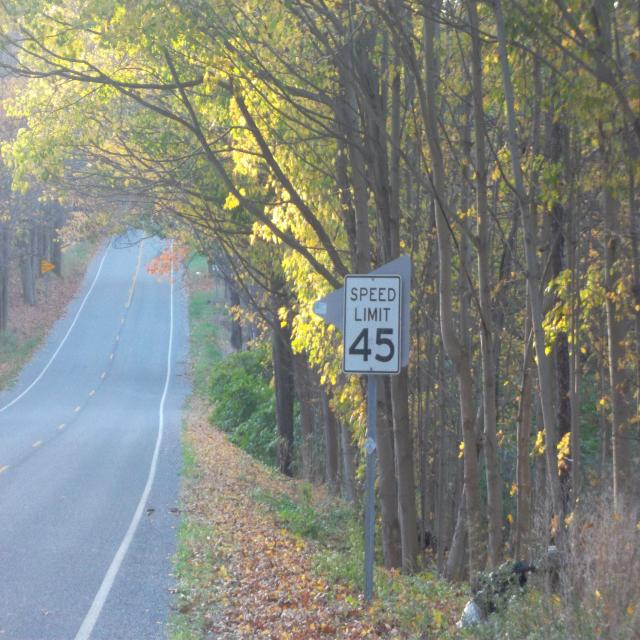regulatory: (341, 272, 404, 376)
